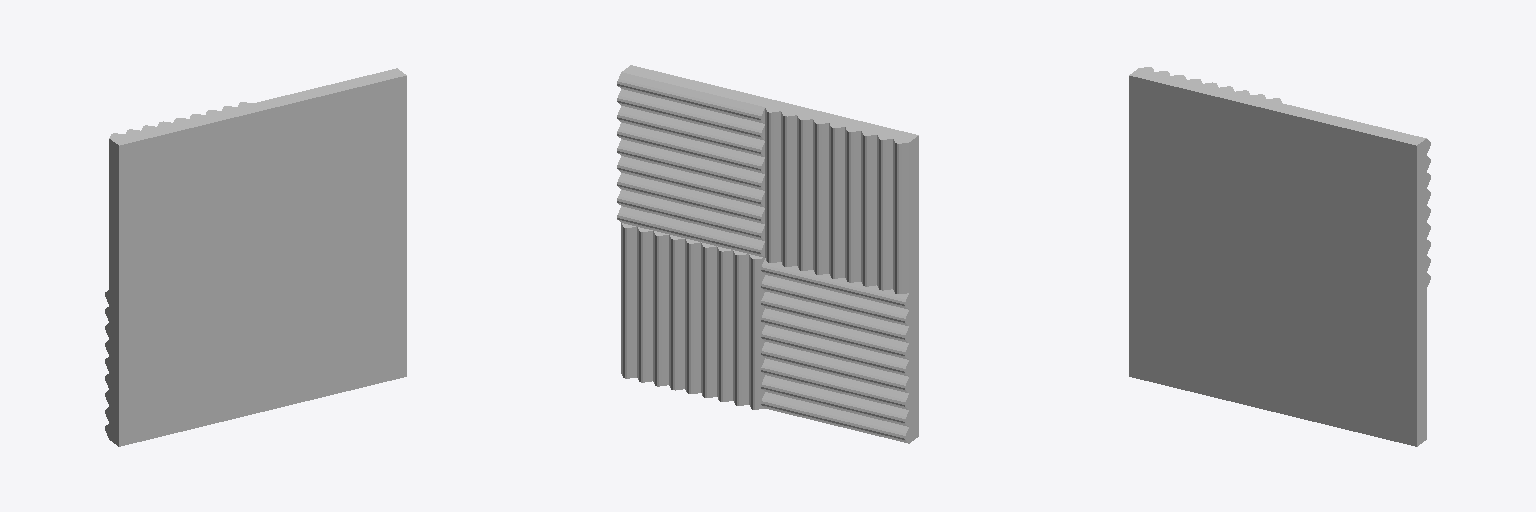
Rendered from Acoustic Foam Tile.obj.
3 renders of one model, left to right at view 1: azimuth 30°, elevation 25°; view 2: azimuth 150°, elevation 25°; view 3: azimuth 330°, elevation 25°, orthographic.
Visible parts, largest first — view 1: Acoustic_Foam_Single_Cube.021; view 2: Acoustic_Foam_Single_Cube.021; view 3: Acoustic_Foam_Single_Cube.021.
Boxes of the visible parts, x1=… form: Acoustic_Foam_Single_Cube.021: x1=105, y1=68, x2=406, y2=446; Acoustic_Foam_Single_Cube.021: x1=617, y1=65, x2=918, y2=443; Acoustic_Foam_Single_Cube.021: x1=1129, y1=67, x2=1430, y2=446.
Bounding box in the file's own units: 0.3894 × 0.3894 × 0.0332.